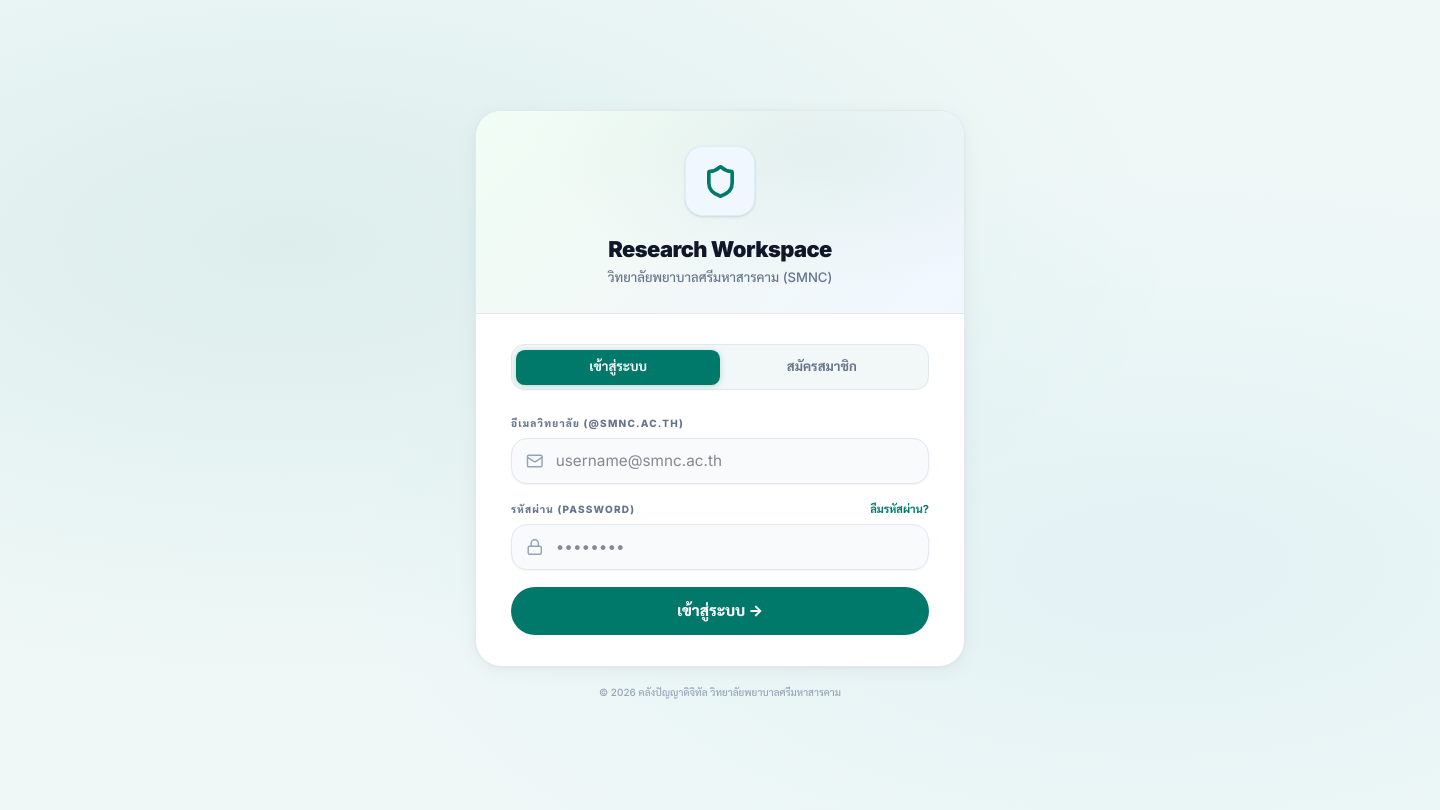
Test: AuthScreen component (Login & Registration Flow) › submits registration form with valid @smnc.ac.th email
Click the button "สมัครสมาชิก": [822, 367] box [720,350,924,385]
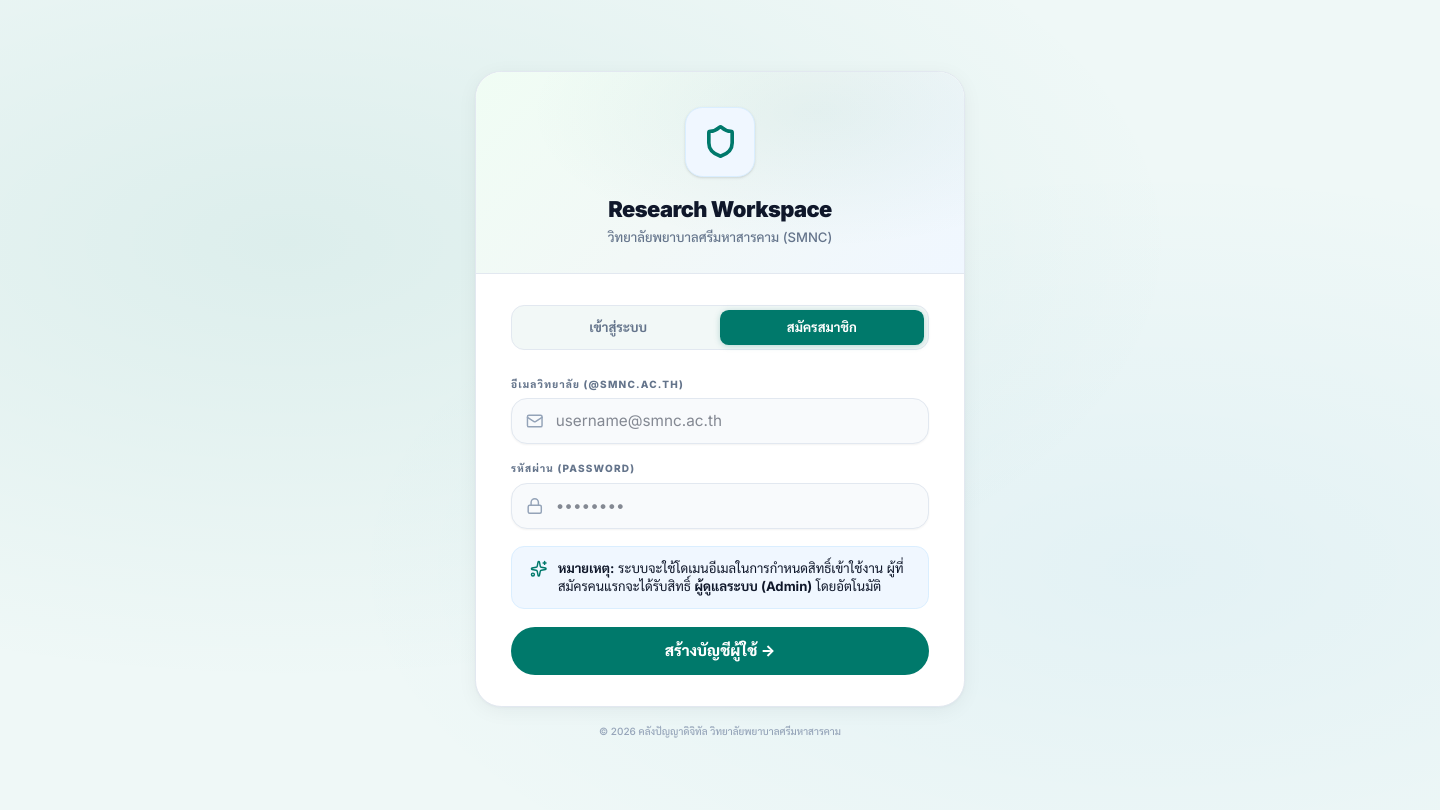
In the field with placeholder "username@smnc.ac.th": [720, 421] box [511,398,929,444], type "newteacher@smnc.ac.th"
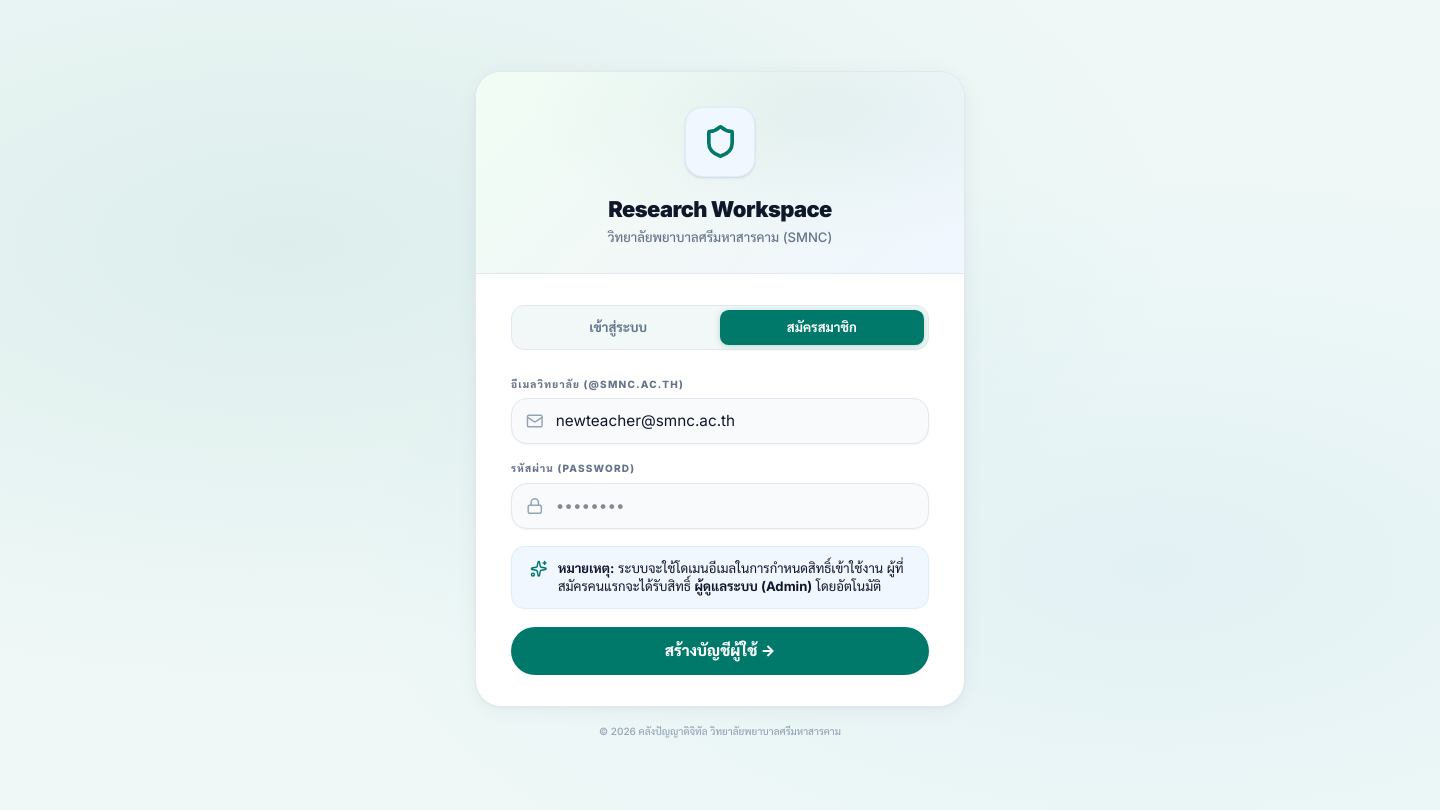
In the password field with placeholder "••••••••": [720, 506] box [511,483,929,529], type "securepass123"
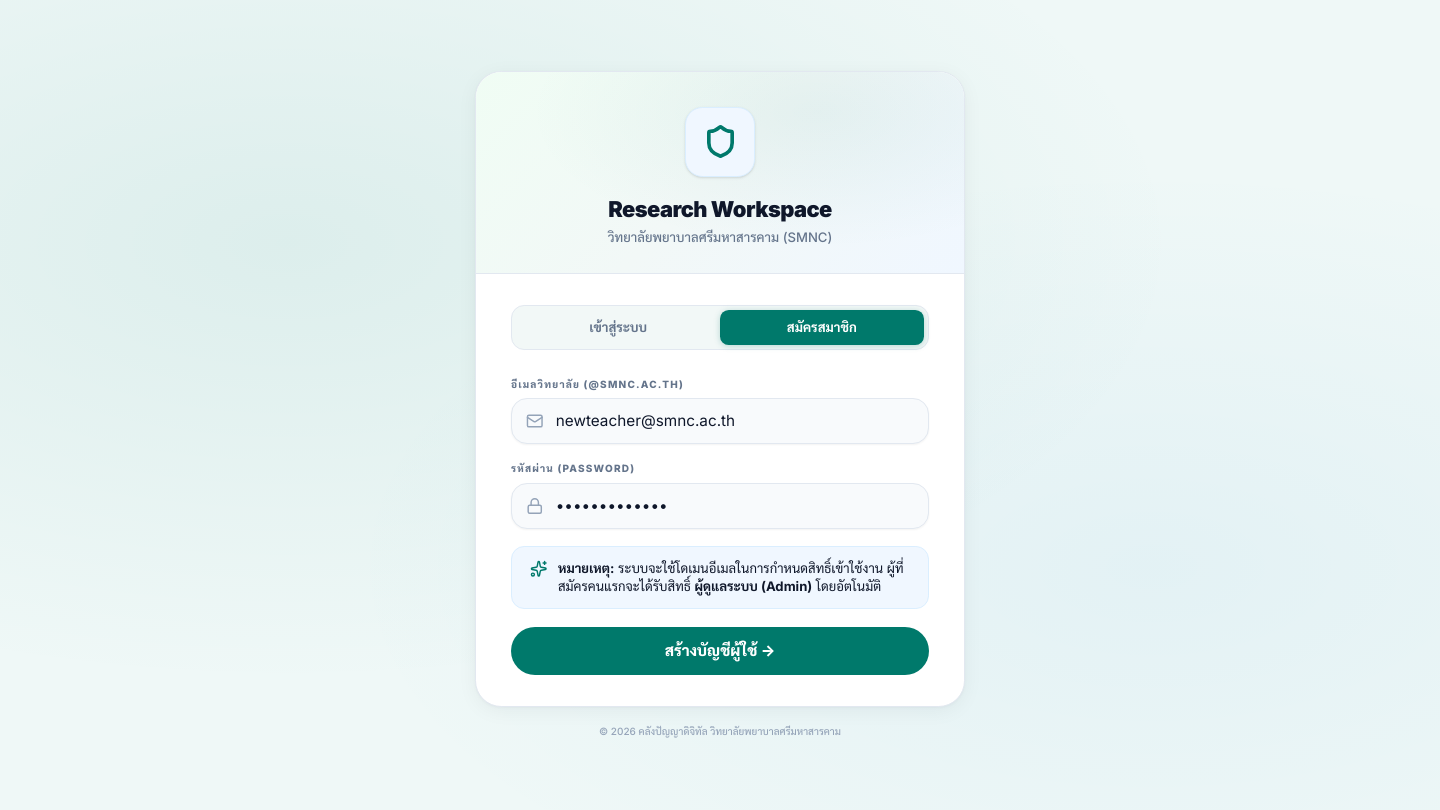
Click the button "สร้างบัญชีผู้ใช้ →": [720, 651] box [511,627,929,675]
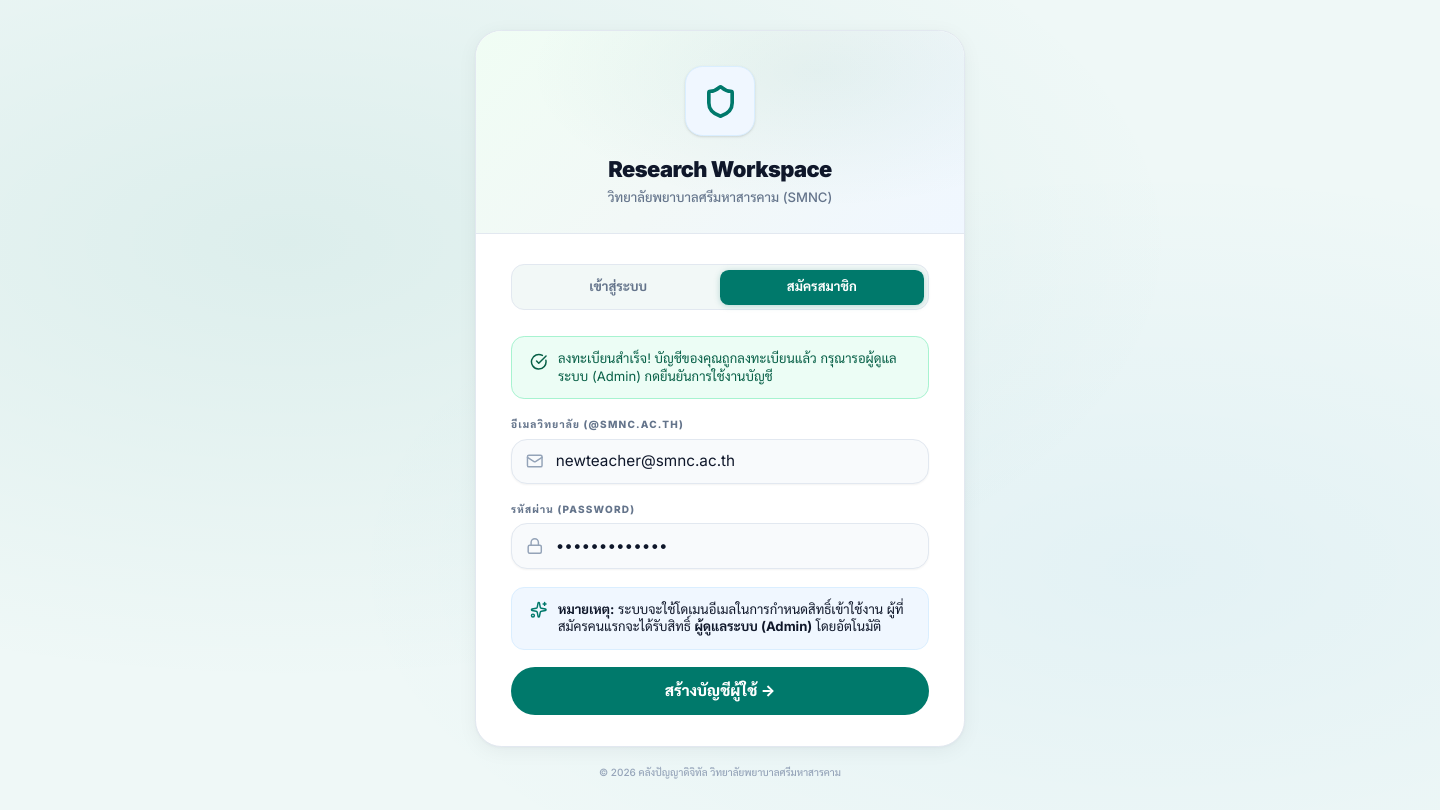
Expected: the text "ลงทะเบียนสำเร็จ! บัญชีของคุณถูกลงทะเบียนแล้ว กรุณารอผู้ดูแลระบบ" is shown, [558,350,897,384]
